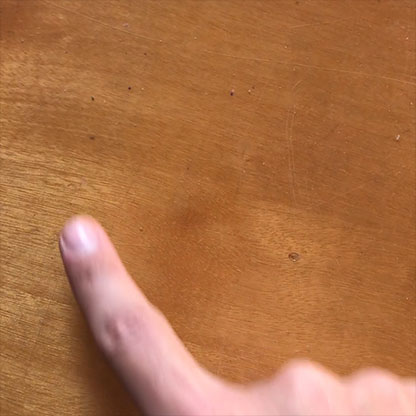fingertip: (45, 203, 121, 274)
